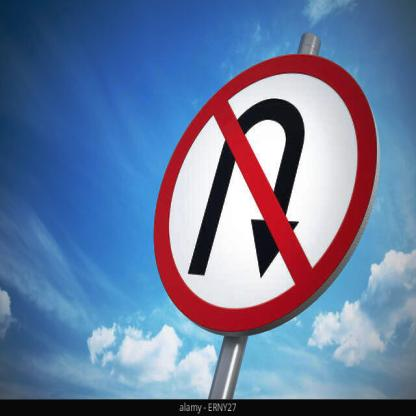No U-turn: (154, 50, 384, 320)
